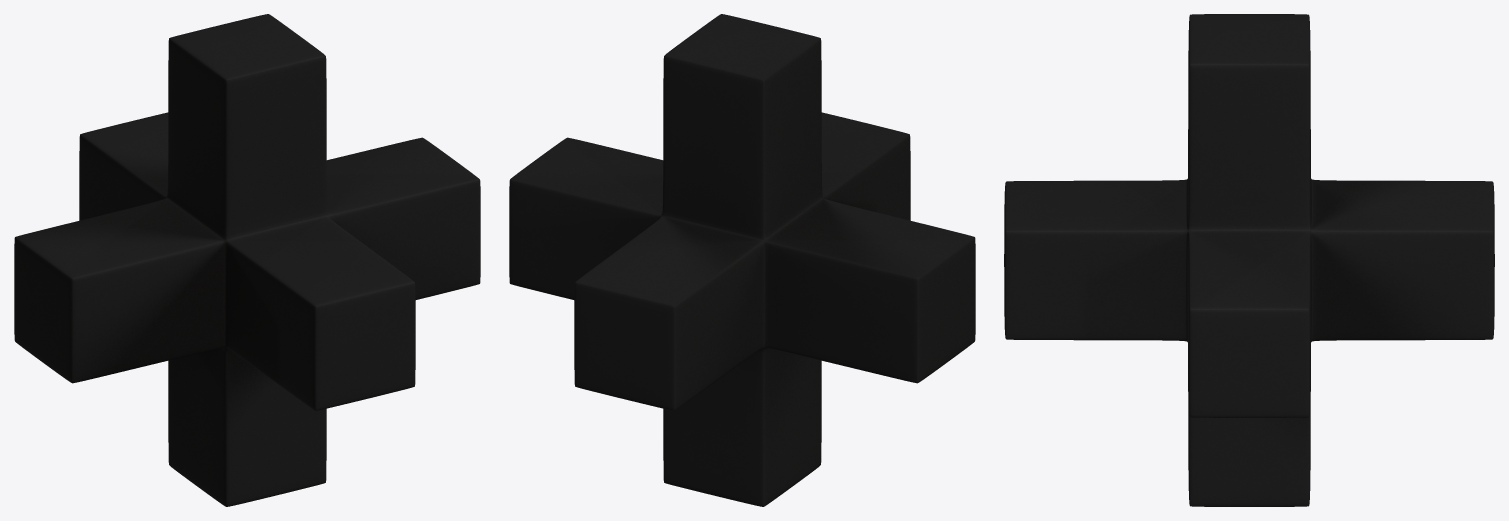
The picture shows the model from 3 angles, left to right: view 1: azimuth 30°, elevation 25°; view 2: azimuth 150°, elevation 25°; view 3: azimuth 270°, elevation 25°; orthographic projection. The views are drawn at different scales.
Parts seen in each view (by area): view 1: Cube; view 2: Cube; view 3: Cube.
Part boxes in pixels (bbox=[...]): Cube: bbox=[14, 14, 480, 506]; Cube: bbox=[509, 14, 975, 506]; Cube: bbox=[1004, 14, 1494, 506].
Bounding box in the file's own units: 8 × 8 × 8.
1 material, 1 textured.
